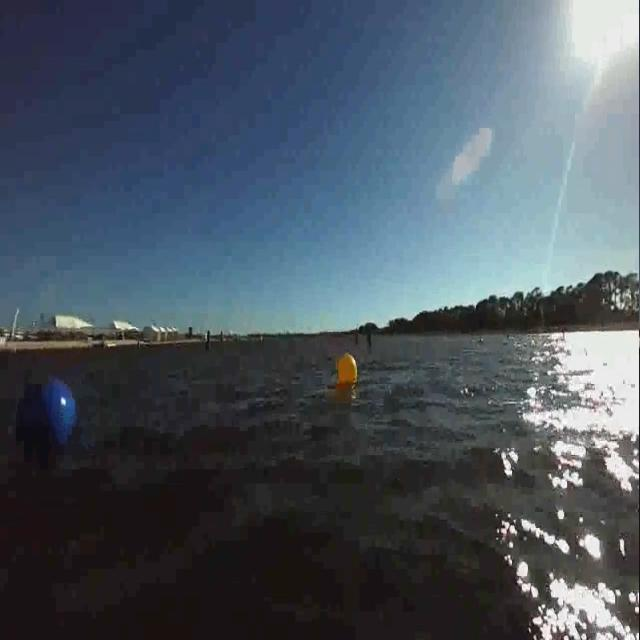blue-buoy: (18, 382, 78, 452)
yellow-buoy: (331, 352, 359, 388)
